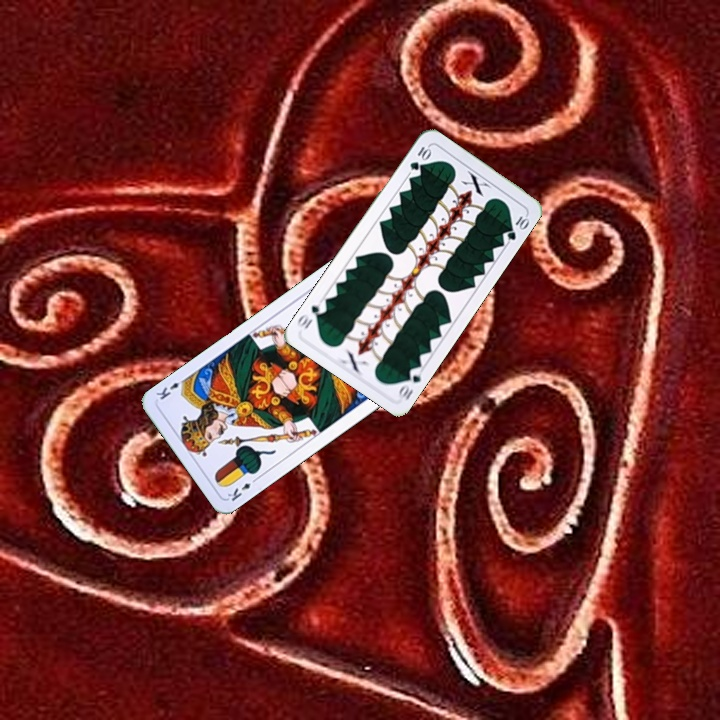EK: (223, 473, 261, 504)
G10: (394, 363, 426, 403), (406, 142, 434, 173)
